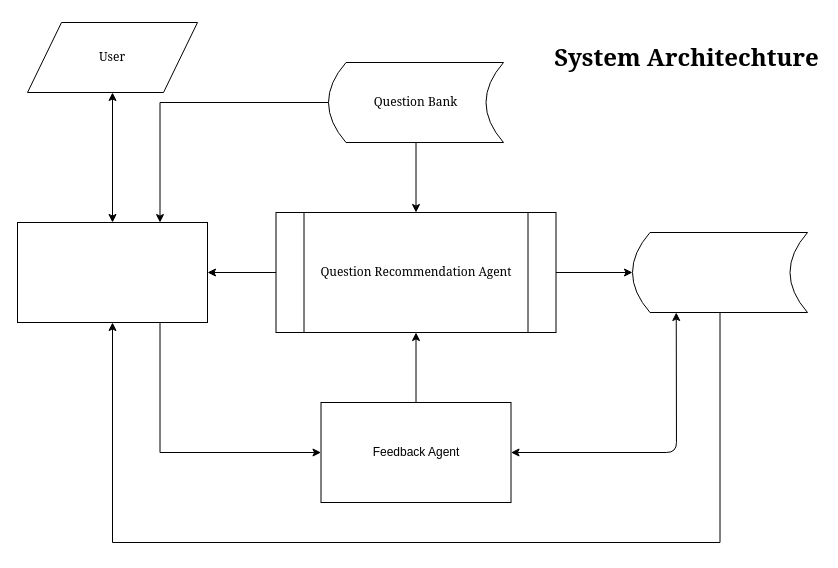
This 838x568 diagram has some shape labels left out. Each missing label, with the centre of its shape:
"Interface Agent" goes at point 112,272.
"User Profile Database" goes at point 720,272.
